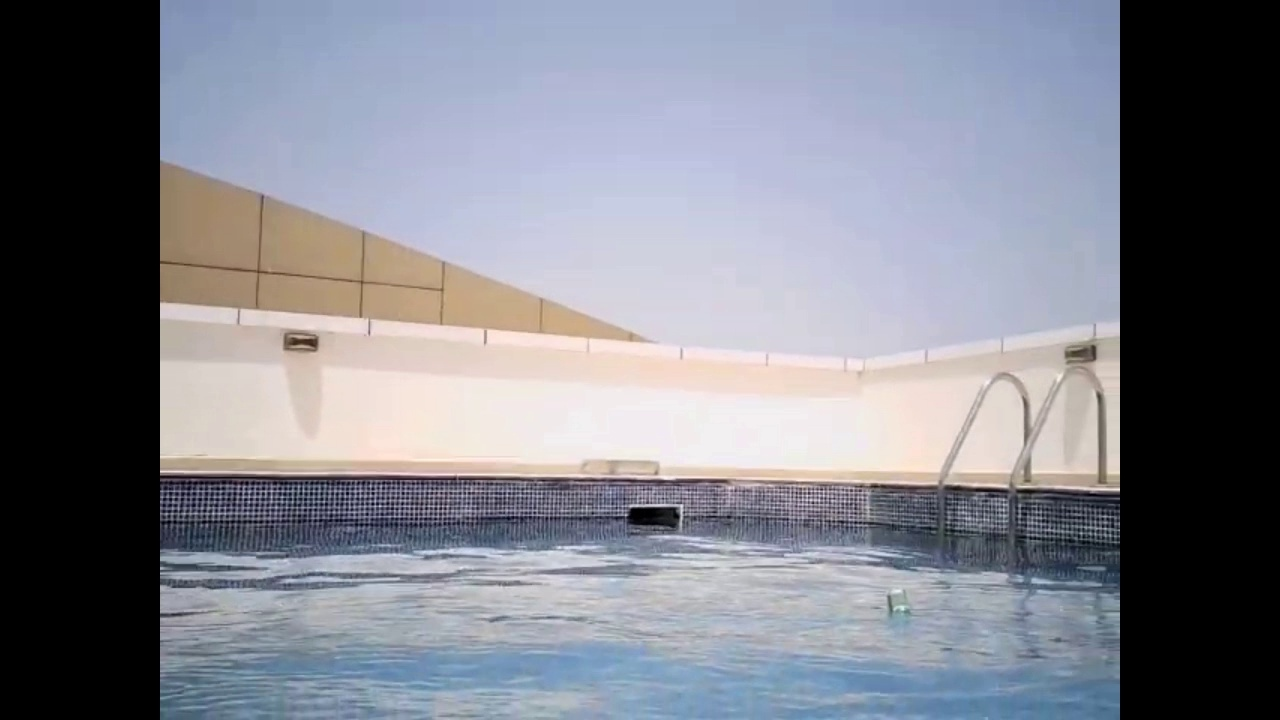debris: (877, 580, 914, 622)
